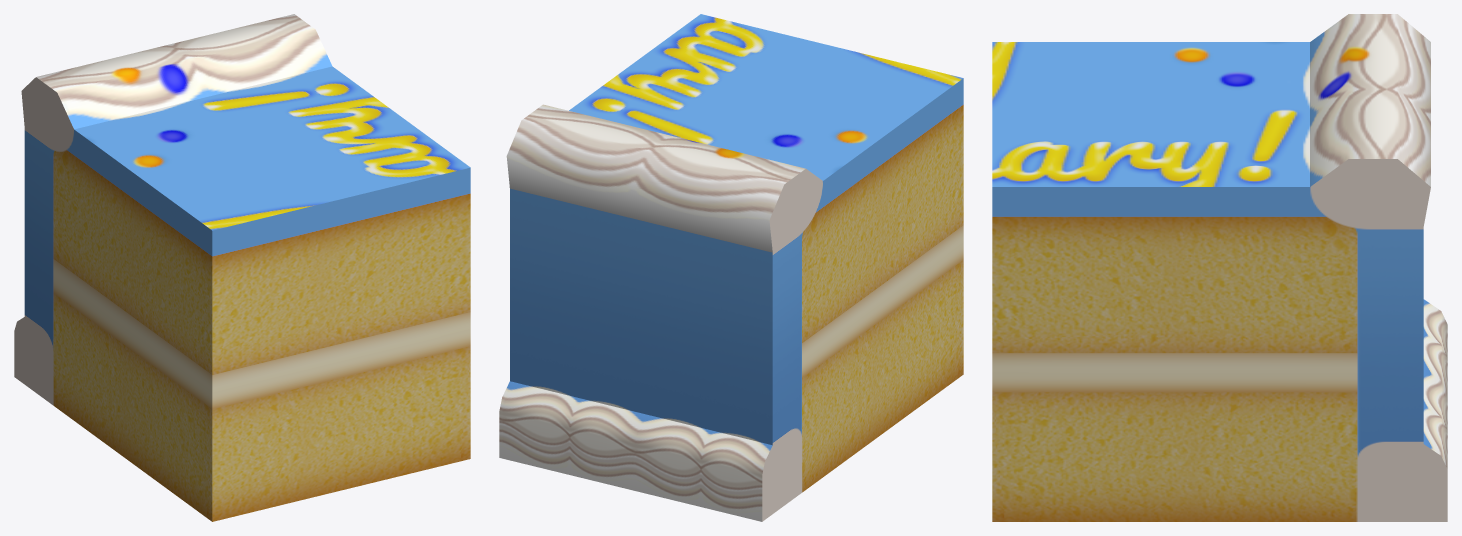
Rendered from SheetCake_01_Slice_06.fbx.
3 views of the same model, side by side, from view 1: azimuth 30°, elevation 25°; view 2: azimuth 150°, elevation 25°; view 3: azimuth 270°, elevation 25° (orthographic). The views are drawn at different scales.
Parts seen in each view (by area): view 1: SheetCake_01_Slice_06; view 2: SheetCake_01_Slice_06; view 3: SheetCake_01_Slice_06.
Part boxes in pixels (box(x1,y1,x2,y2)): SheetCake_01_Slice_06: box(14, 14, 470, 521); SheetCake_01_Slice_06: box(499, 14, 963, 521); SheetCake_01_Slice_06: box(992, 14, 1447, 521).
Size of the model in its own units: 34.22 by 39.96 by 45.43.
